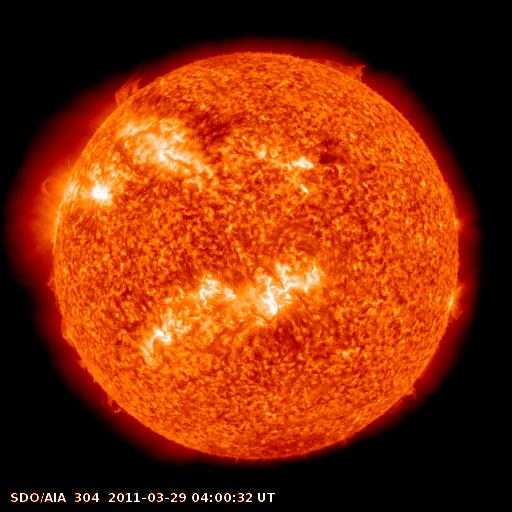prominence: (35, 271, 98, 376), (380, 363, 438, 420), (298, 43, 371, 87), (106, 61, 153, 110), (92, 387, 130, 422)
